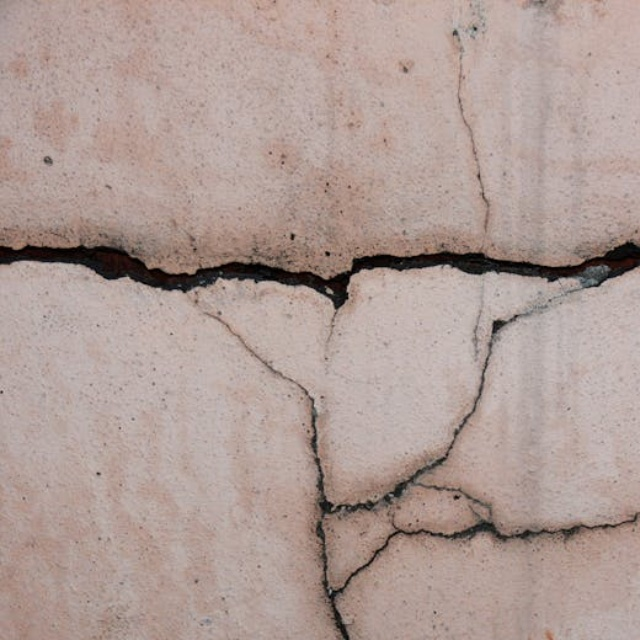网状裂隙: (392, 91, 640, 640), (412, 26, 545, 585), (24, 204, 102, 640)
